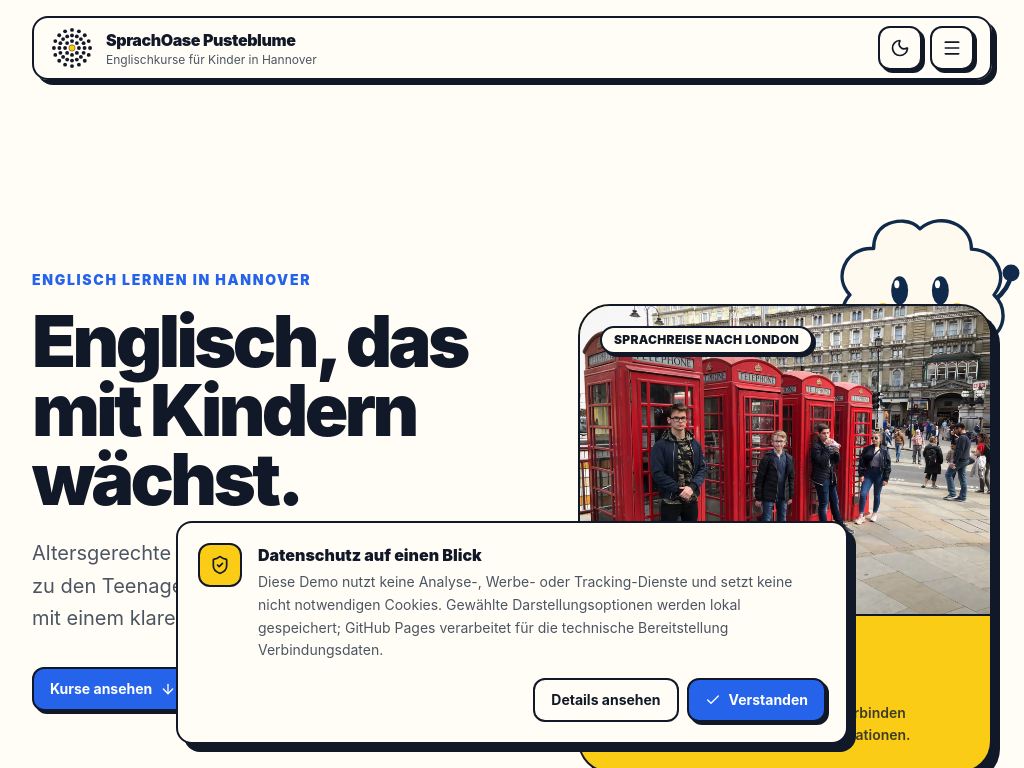
Test case: App › shows a truthful first-visit privacy notice and remembers dismissal
Expected: the text "keine Analyse-, Werbe- oder Tracking-Dienste" is shown, [258,573,792,658]
Click the button "Verstanden": (756,700) [687,678,826,722]
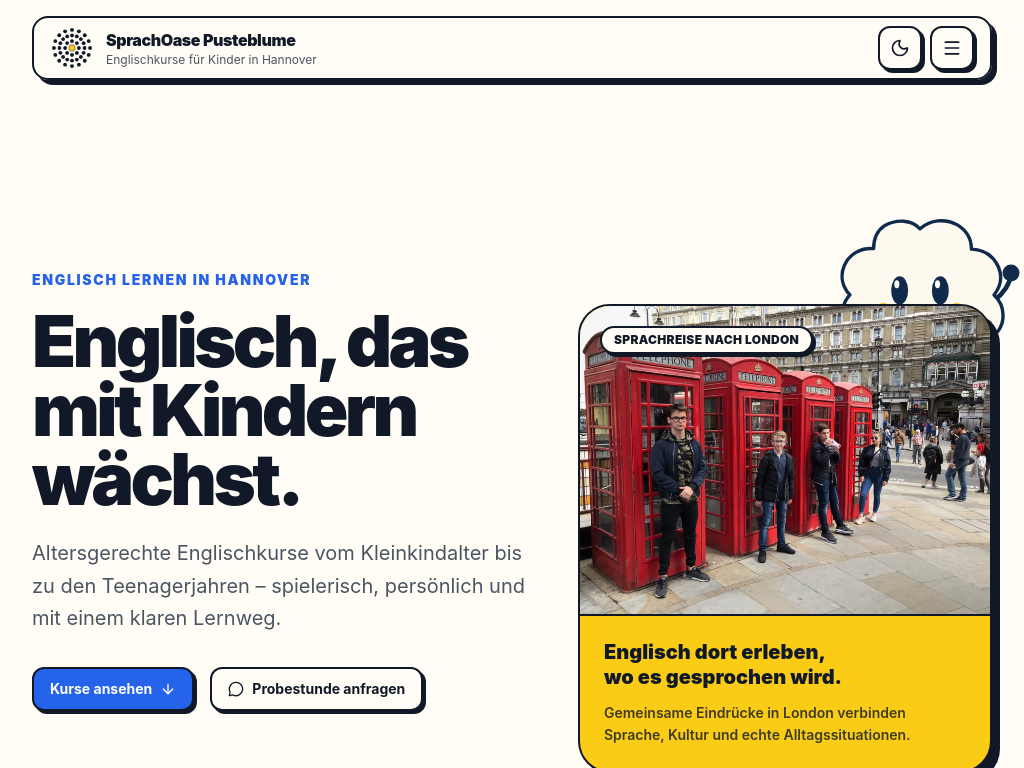
Now the heading "Datenschutz auf einen Blick" is gone
